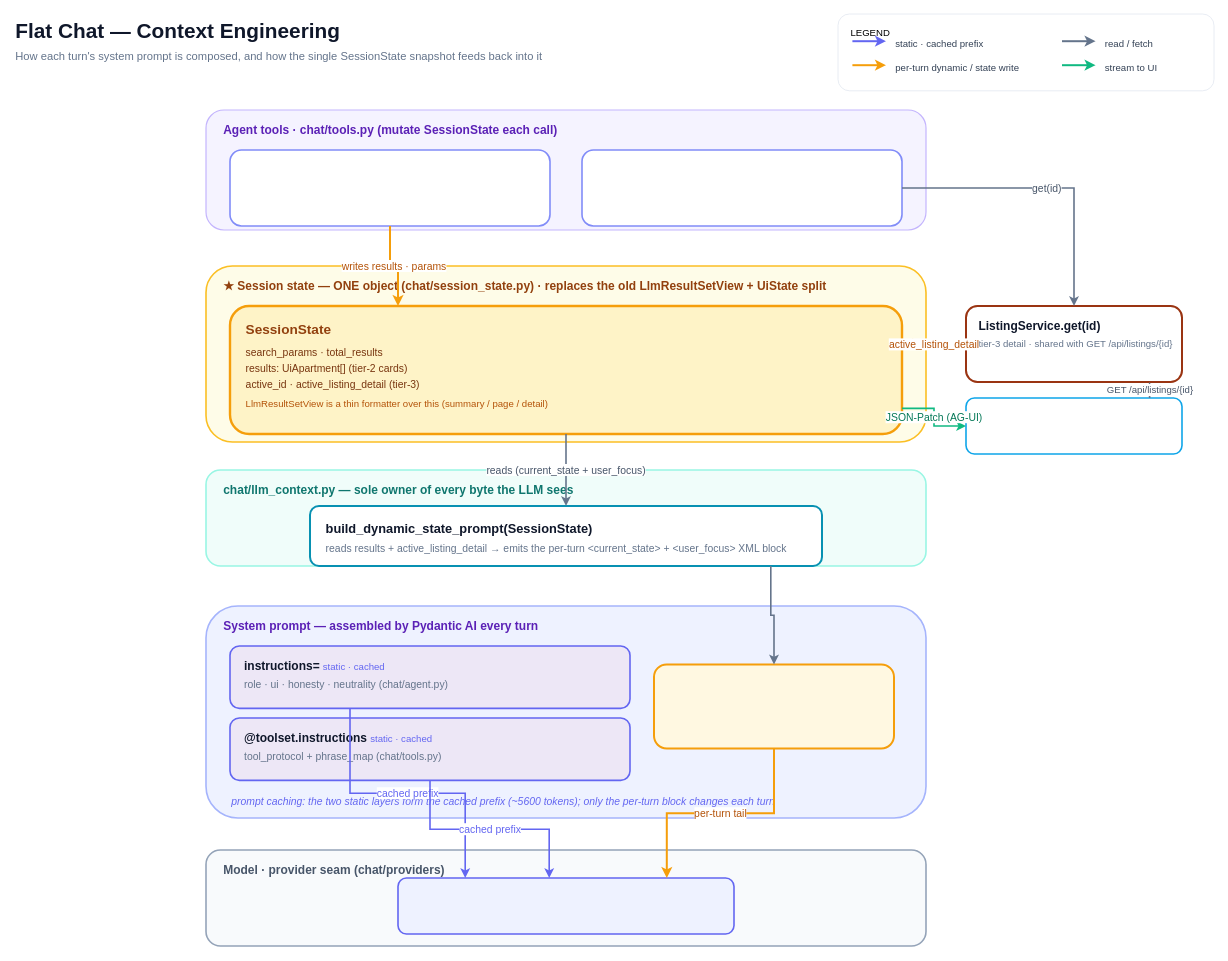
The diagram is 1228 pixels wide and 961 high, and some of its shapes have lost their labels. Here are the shapes that lost their labels. From the top down, the centre of each, then its label:
At [389,187]: "search_apartments SearchService → cards; replaces the result set".
At [741,187]: "open_listing sets active_id · fetches tier-3 detail".
At [1073,425]: "Frontend map + cards · detail panel".
At [774,706]: "@agent.instructions per-turn <current_state> + <user_focus>".
At [565,905]: "LLM Anthropic-direct (cached) · Azure OpenAI".
